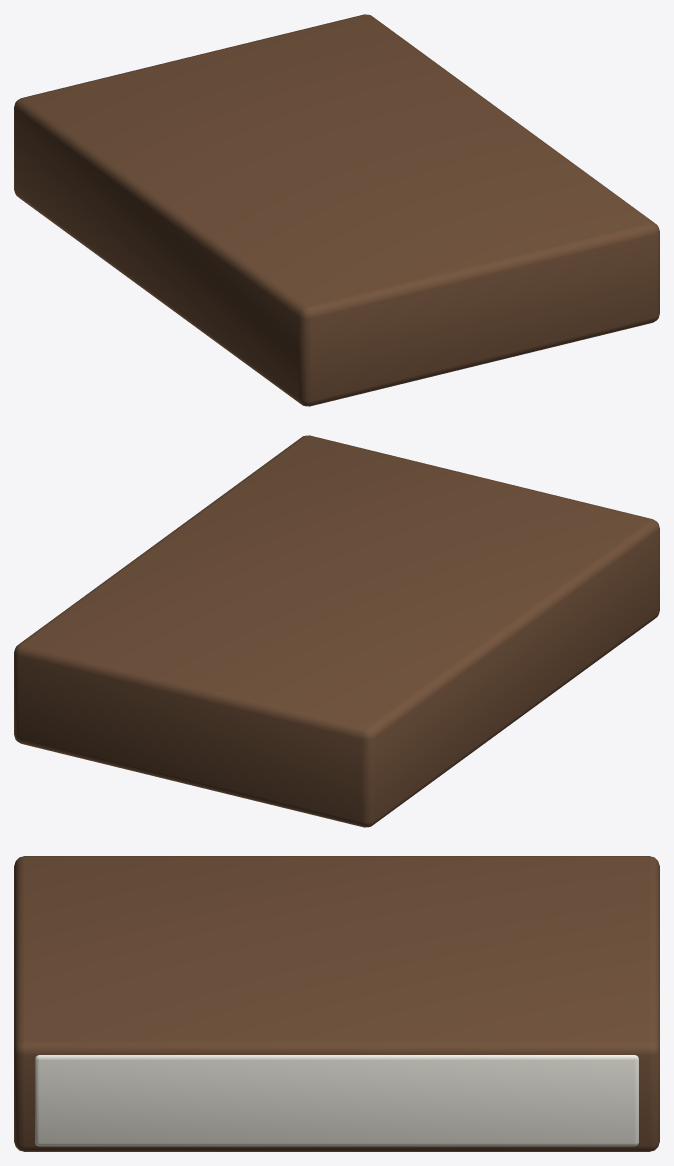
File: book.glb
3 renders of one model, top to bottom at view 1: azimuth 30°, elevation 25°; view 2: azimuth 150°, elevation 25°; view 3: azimuth 270°, elevation 25°, orthographic. The views are drawn at different scales.
Parts seen in each view (by area): view 1: cover; view 2: cover; view 3: cover, pages.
Part boxes in pixels (<box>): cover: <box>14,14,659,406</box>; cover: <box>14,435,659,827</box>; cover: <box>14,856,659,1151</box>; pages: <box>35,1055,638,1146</box>.
Bounding box in the file's own units: 0.171 × 0.045 × 0.24.
